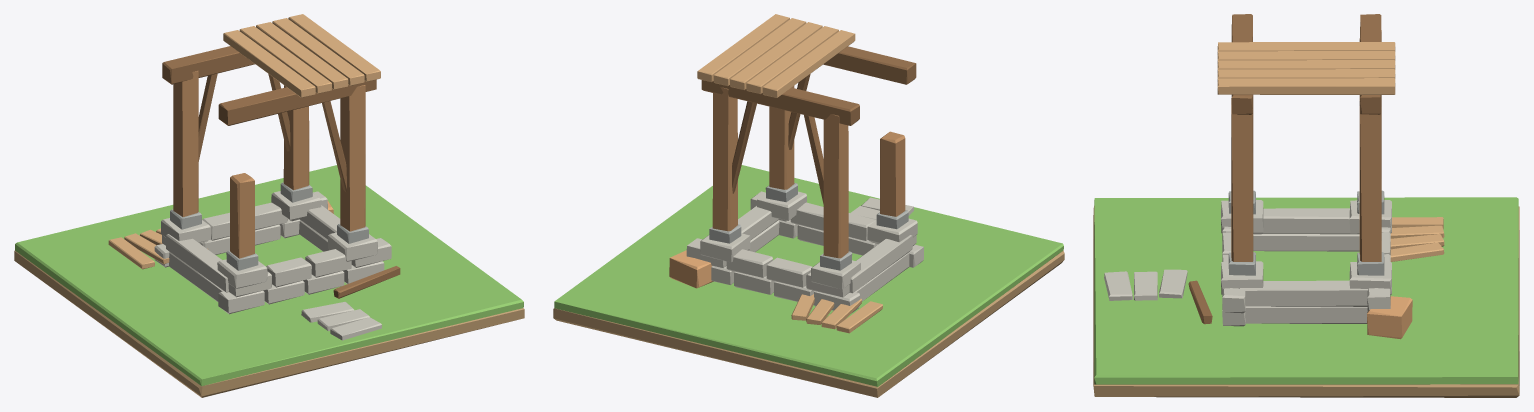
Rendered from tower_l02_damaged_LOD1.glb.
The picture shows the model from 3 angles, left to right: view 1: azimuth 30°, elevation 25°; view 2: azimuth 150°, elevation 25°; view 3: azimuth 270°, elevation 25°; orthographic projection. The views are drawn at different scales.
Visible parts, largest first — view 1: tower_l02_grass_tile_tower_l02_damaged_LOD1_tmp, tower_l02_earth_tile_tower_l02_damaged_LOD1_tmp, post_-0.61_0.54_tower_l02_damaged_LOD1_tmp, post_0.61_-0.54_tower_l02_damaged_LOD1_tmp, deck_bearer_-0.54_tower_l02_damaged_LOD1_tmp, post_-0.61_-0.54_tower_l02_damaged_LOD1_tmp, deck_bearer_0.54_tower_l02_damaged_LOD1_tmp, post_0.61_0.54_tower_l02_damaged_LOD1_tmp, deck_board_4_tower_l02_damaged_LOD1_tmp, stone_return_1_-0.72_tower_l02_damaged_LOD1_tmp, deck_board_7_tower_l02_damaged_LOD1_tmp, deck_board_5_tower_l02_damaged_LOD1_tmp (+27 smaller); view 2: tower_l02_grass_tile_tower_l02_damaged_LOD1_tmp, tower_l02_earth_tile_tower_l02_damaged_LOD1_tmp, post_-0.61_0.54_tower_l02_damaged_LOD1_tmp, post_0.61_0.54_tower_l02_damaged_LOD1_tmp, deck_bearer_0.54_tower_l02_damaged_LOD1_tmp, post_-0.61_-0.54_tower_l02_damaged_LOD1_tmp, deck_bearer_-0.54_tower_l02_damaged_LOD1_tmp, post_0.61_-0.54_tower_l02_damaged_LOD1_tmp, deck_board_4_tower_l02_damaged_LOD1_tmp, stone_return_1_-0.72_tower_l02_damaged_LOD1_tmp, deck_board_6_tower_l02_damaged_LOD1_tmp, deck_board_8_tower_l02_damaged_LOD1_tmp (+21 smaller); view 3: tower_l02_grass_tile_tower_l02_damaged_LOD1_tmp, tower_l02_earth_tile_tower_l02_damaged_LOD1_tmp, post_0.61_0.54_tower_l02_damaged_LOD1_tmp, post_0.61_-0.54_tower_l02_damaged_LOD1_tmp, deck_board_8_tower_l02_damaged_LOD1_tmp, stone_return_1_0.72_tower_l02_damaged_LOD1_tmp, stone_return_1_-0.72_tower_l02_damaged_LOD1_tmp, stone_return_0_0.72_tower_l02_damaged_LOD1_tmp, stone_return_0_-0.72_tower_l02_damaged_LOD1_tmp, deck_board_7_tower_l02_damaged_LOD1_tmp, deck_board_6_tower_l02_damaged_LOD1_tmp, deck_board_5_tower_l02_damaged_LOD1_tmp (+20 smaller).
Part boxes in pixels (x1,y1,x2,y2): tower_l02_grass_tile_tower_l02_damaged_LOD1_tmp: (15, 165, 523, 386); tower_l02_earth_tile_tower_l02_damaged_LOD1_tmp: (14, 250, 524, 397); post_-0.61_0.54_tower_l02_damaged_LOD1_tmp: (173, 71, 198, 216); post_0.61_-0.54_tower_l02_damaged_LOD1_tmp: (340, 85, 365, 231); deck_bearer_-0.54_tower_l02_damaged_LOD1_tmp: (218, 79, 376, 125); post_-0.61_-0.54_tower_l02_damaged_LOD1_tmp: (230, 173, 254, 258); deck_bearer_0.54_tower_l02_damaged_LOD1_tmp: (162, 46, 254, 84); post_0.61_0.54_tower_l02_damaged_LOD1_tmp: (283, 85, 309, 190); deck_board_4_tower_l02_damaged_LOD1_tmp: (223, 30, 315, 97); stone_return_1_-0.72_tower_l02_damaged_LOD1_tmp: (166, 234, 228, 292); deck_board_7_tower_l02_damaged_LOD1_tmp: (272, 18, 364, 85); deck_board_5_tower_l02_damaged_LOD1_tmp: (239, 26, 331, 93); tower_l02_grass_tile_tower_l02_damaged_LOD1_tmp: (554, 165, 1063, 387); tower_l02_earth_tile_tower_l02_damaged_LOD1_tmp: (553, 250, 1064, 397); post_-0.61_0.54_tower_l02_damaged_LOD1_tmp: (823, 114, 848, 258); post_0.61_0.54_tower_l02_damaged_LOD1_tmp: (712, 87, 737, 231); deck_bearer_0.54_tower_l02_damaged_LOD1_tmp: (701, 80, 859, 125); post_-0.61_-0.54_tower_l02_damaged_LOD1_tmp: (880, 131, 905, 216); deck_bearer_-0.54_tower_l02_damaged_LOD1_tmp: (823, 46, 916, 84); post_0.61_-0.54_tower_l02_damaged_LOD1_tmp: (769, 86, 794, 189); deck_board_4_tower_l02_damaged_LOD1_tmp: (762, 30, 855, 97); stone_return_1_-0.72_tower_l02_damaged_LOD1_tmp: (849, 235, 912, 293); deck_board_6_tower_l02_damaged_LOD1_tmp: (730, 22, 822, 89); deck_board_8_tower_l02_damaged_LOD1_tmp: (697, 14, 789, 81); tower_l02_grass_tile_tower_l02_damaged_LOD1_tmp: (1094, 197, 1518, 384); tower_l02_earth_tile_tower_l02_damaged_LOD1_tmp: (1093, 206, 1519, 397); post_0.61_0.54_tower_l02_damaged_LOD1_tmp: (1359, 95, 1381, 261); post_0.61_-0.54_tower_l02_damaged_LOD1_tmp: (1231, 95, 1253, 261); deck_board_8_tower_l02_damaged_LOD1_tmp: (1217, 78, 1395, 94); stone_return_1_0.72_tower_l02_damaged_LOD1_tmp: (1239, 280, 1368, 306); stone_return_1_-0.72_tower_l02_damaged_LOD1_tmp: (1262, 208, 1359, 234); stone_return_0_0.72_tower_l02_damaged_LOD1_tmp: (1245, 306, 1367, 323); stone_return_0_-0.72_tower_l02_damaged_LOD1_tmp: (1253, 234, 1359, 251); deck_board_7_tower_l02_damaged_LOD1_tmp: (1217, 69, 1395, 81); deck_board_6_tower_l02_damaged_LOD1_tmp: (1217, 60, 1395, 72); deck_board_5_tower_l02_damaged_LOD1_tmp: (1217, 51, 1395, 63).
Bounding box in the file's own units: 3.6 × 2.45 × 3.58.
